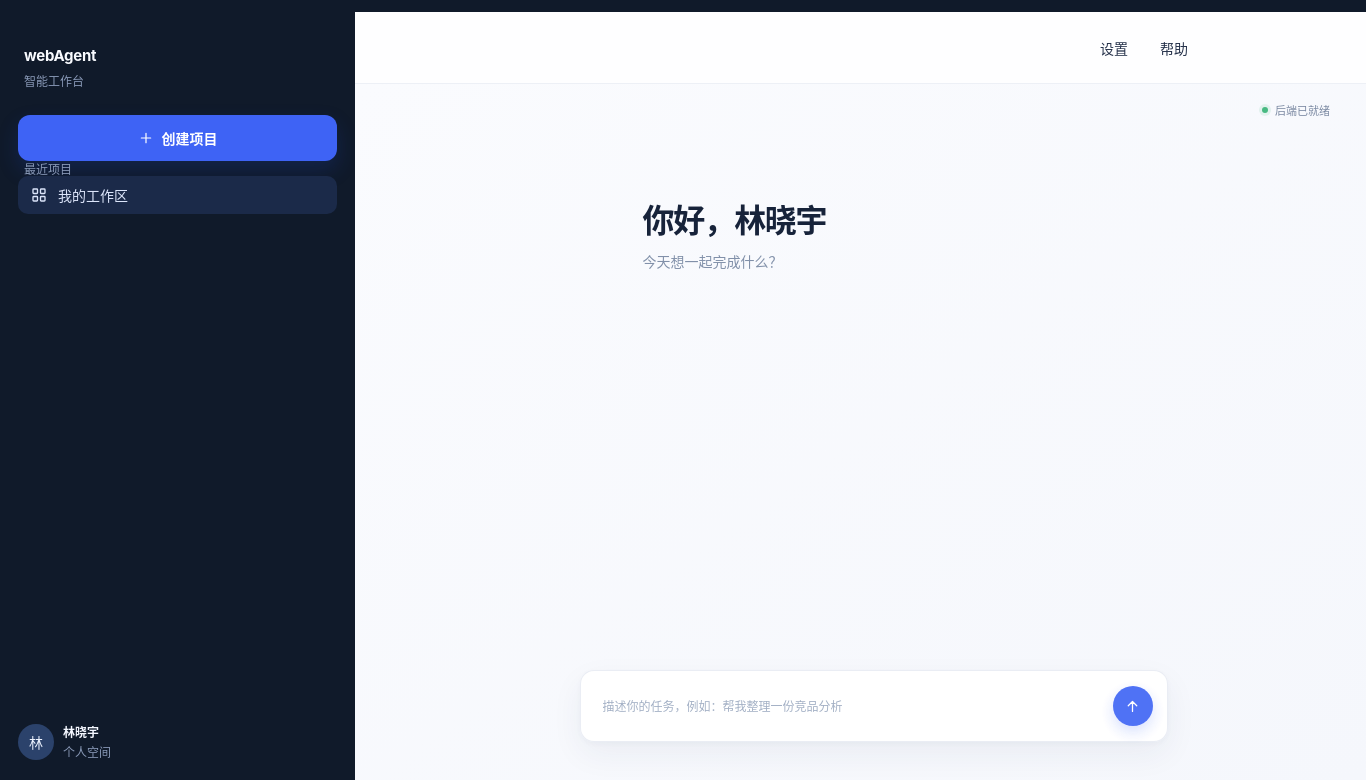
it: desktop run workspace › returns to the workspace without leaving settings selected
Click the button "设置" at coordinates (1114, 48), box [1098,12,1130,83]
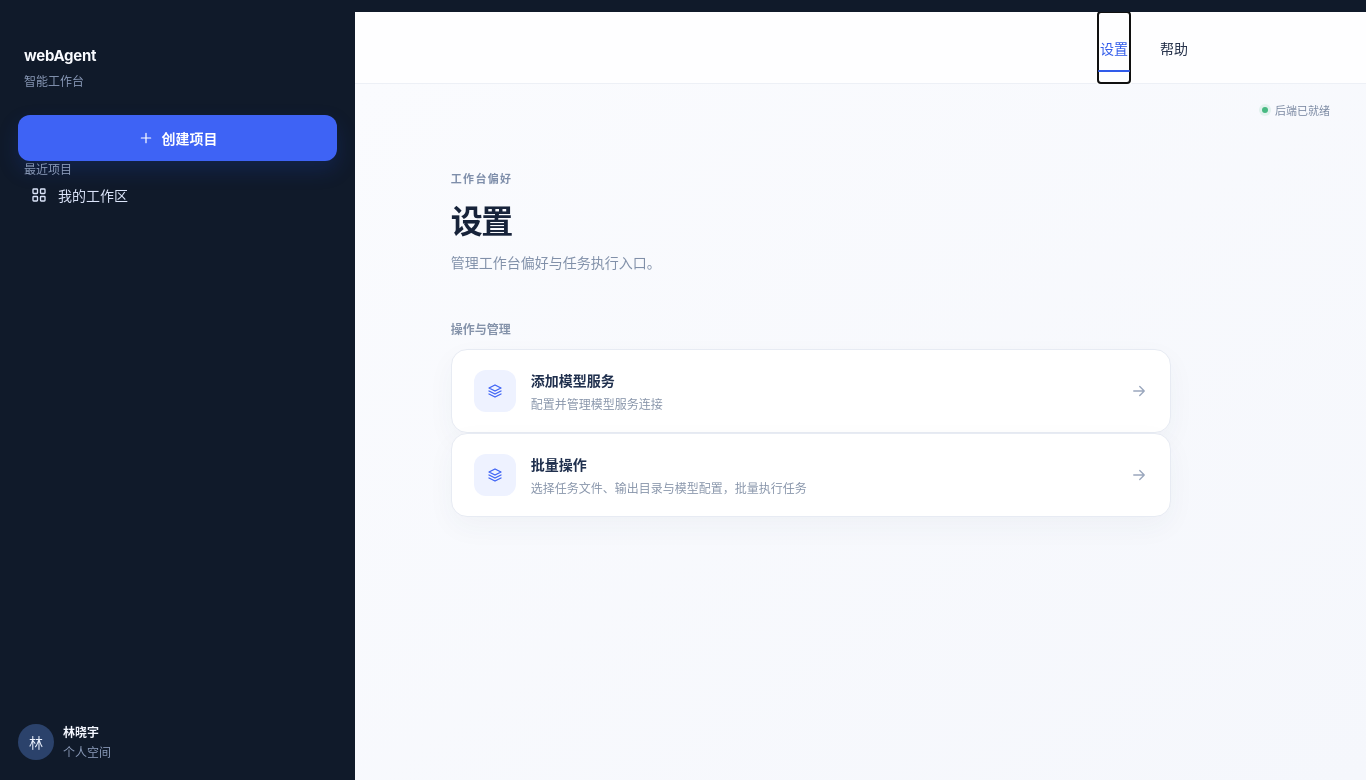
Check: the button "设置" is marked as current, box [1098,12,1130,83]
Click the button "我的工作区" at coordinates (93, 196), box [18,176,337,214]
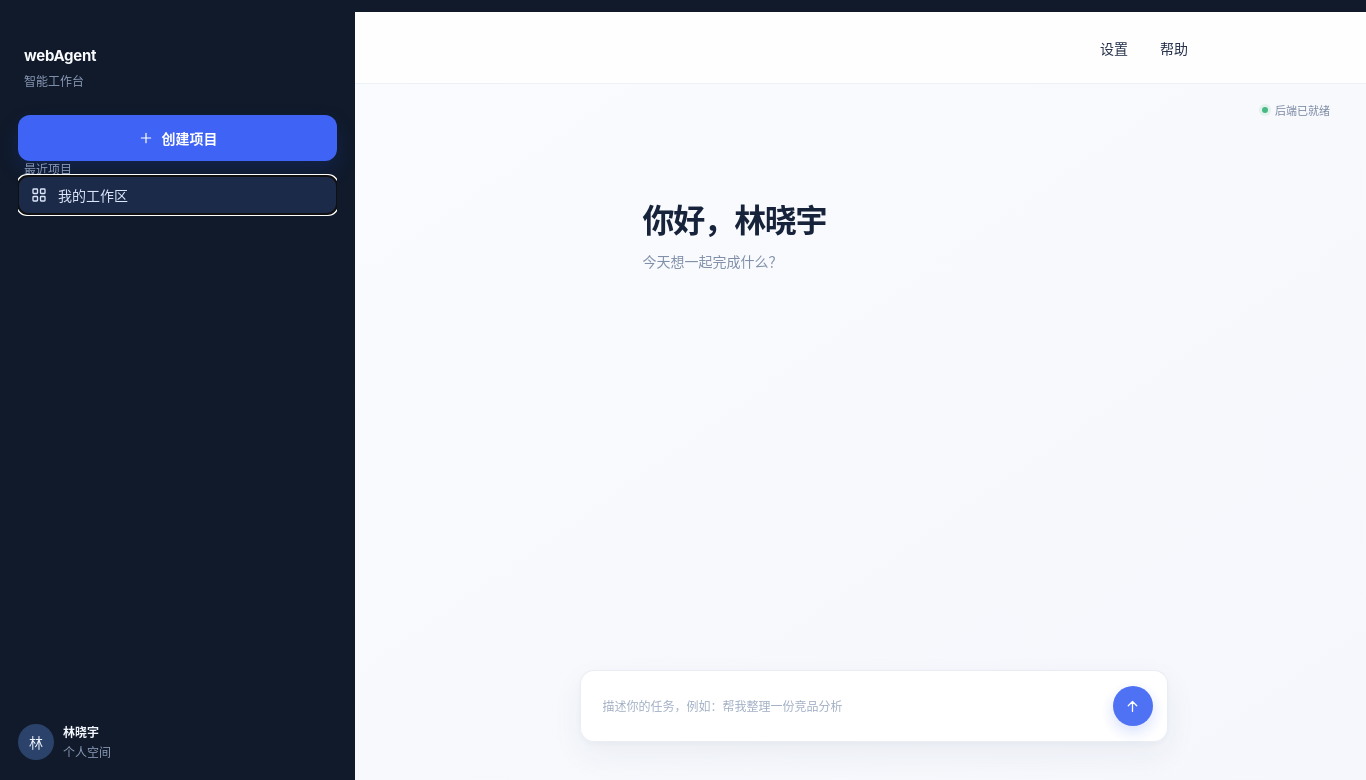
Check: the heading "你好，林晓宇" is shown, box [643,201,826,240]
